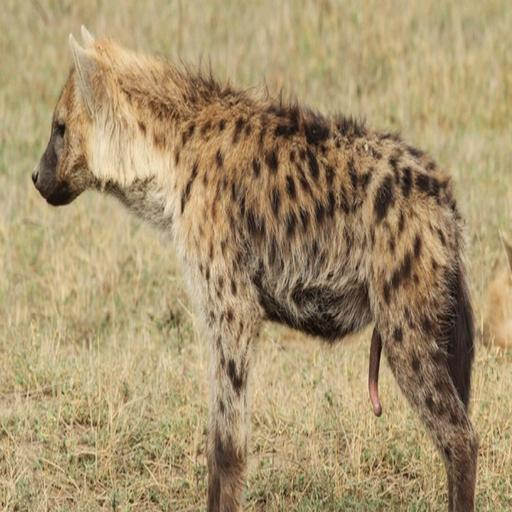Hyena: (28, 27, 479, 510)
